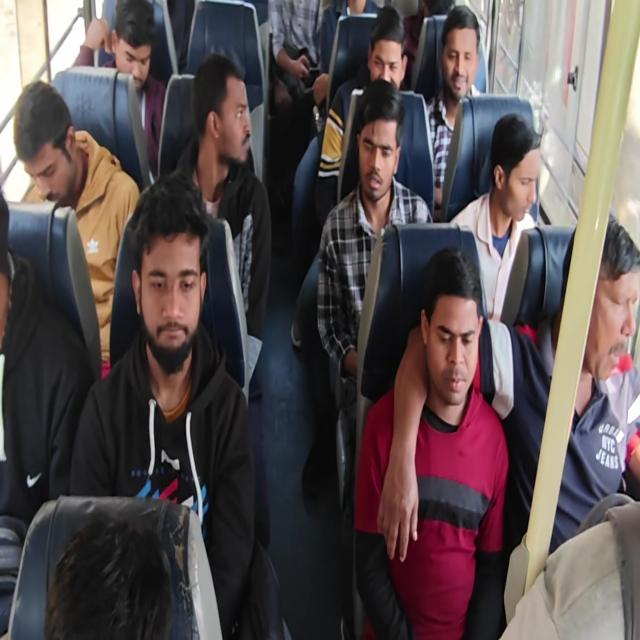person: (128, 179, 202, 356), (575, 224, 631, 399), (8, 82, 79, 210), (110, 1, 170, 116), (422, 287, 477, 403), (492, 120, 540, 221), (353, 102, 395, 203), (210, 84, 258, 170), (364, 23, 404, 100), (440, 13, 474, 98), (420, 0, 457, 41)
